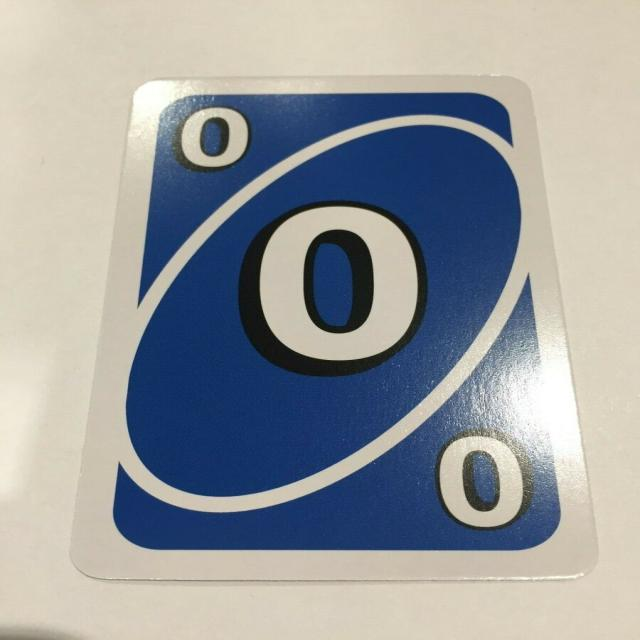Blue_Card: (111, 88, 574, 556)
Number_0: (175, 99, 254, 175)
